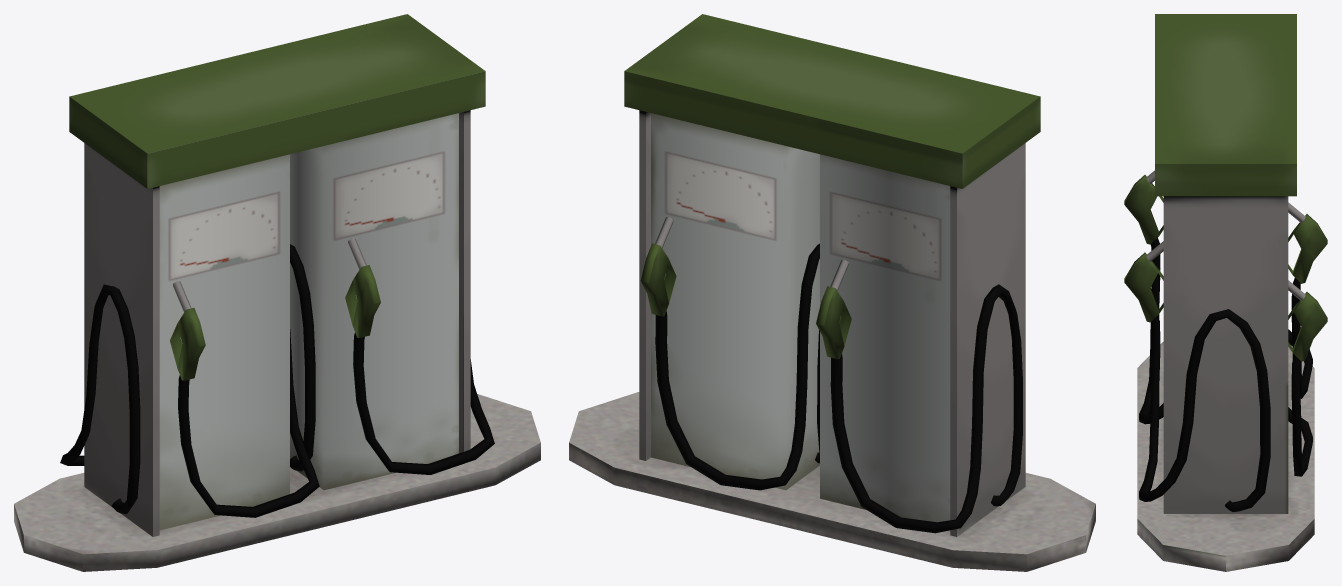
The model's file is gaspump.glb.
3 renders of one model, left to right at view 1: azimuth 30°, elevation 25°; view 2: azimuth 150°, elevation 25°; view 3: azimuth 270°, elevation 25°, orthographic. The views are drawn at different scales.
Visible parts, largest first — view 1: gaspump; view 2: gaspump; view 3: gaspump.
Boxes of the visible parts, x1,y1,x2,y2 form: gaspump: (14,14,540,571); gaspump: (569,14,1095,571); gaspump: (1124,14,1327,571).
Bounding box in the file's own units: 3 × 2.3 × 1.15.
Materials: 1 (1 with a texture image).
